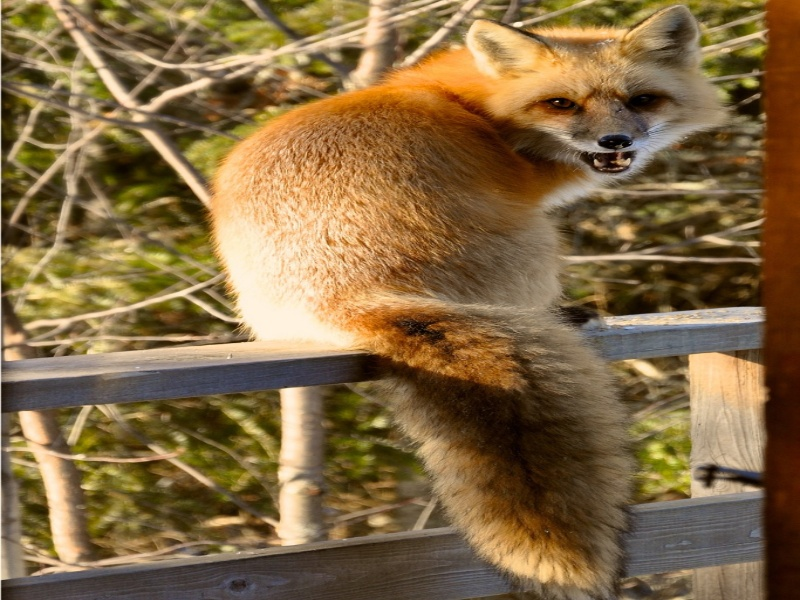fox: (207, 5, 724, 600)
